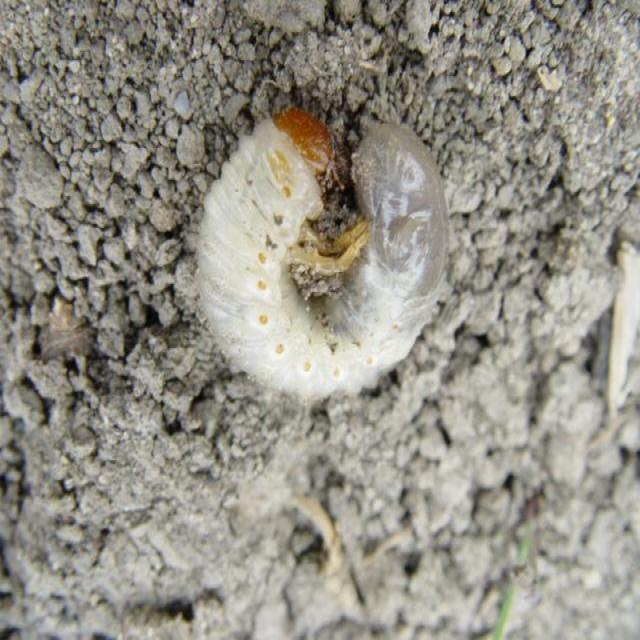grub: (177, 103, 448, 403)
